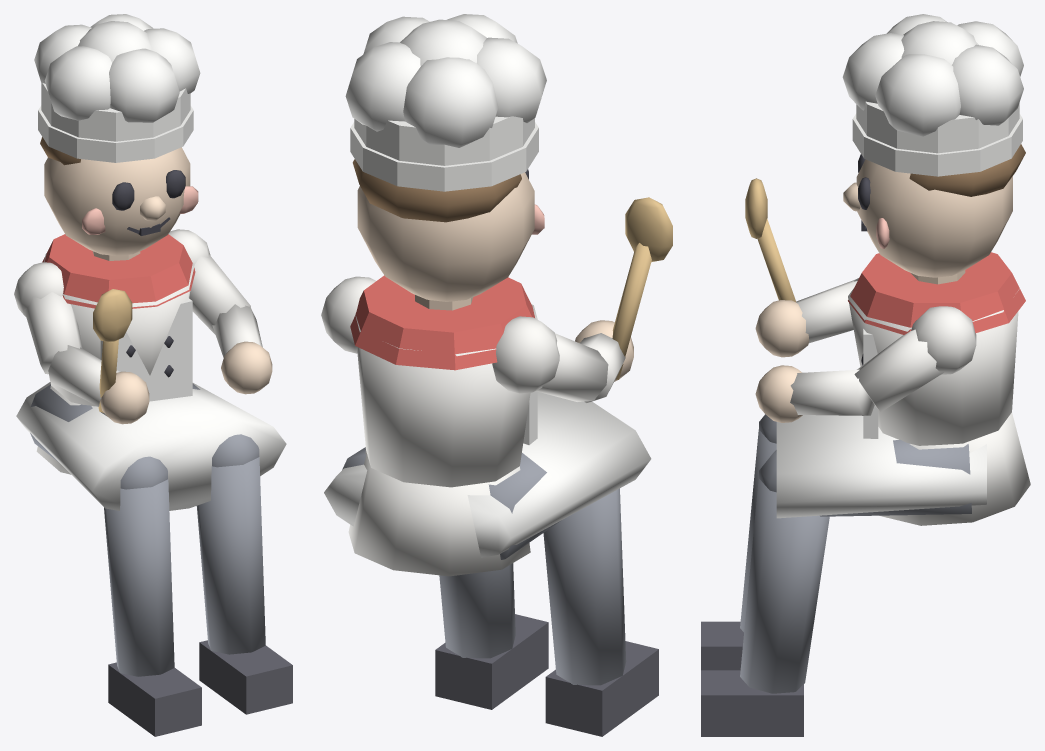
The model's file is meeple_05_koch.glb.
3 views of the same model, side by side, from view 1: azimuth 30°, elevation 25°; view 2: azimuth 150°, elevation 25°; view 3: azimuth 270°, elevation 25° (orthographic). The views are drawn at different scales.
Visible parts, largest first — view 1: meeple_05_koch; view 2: meeple_05_koch; view 3: meeple_05_koch.
Boxes of the visible parts, x1,y1,x2,y2 form: meeple_05_koch: (14, 14, 292, 736); meeple_05_koch: (321, 14, 672, 736); meeple_05_koch: (701, 14, 1030, 736).
Size of the model in its own units: 0.5303 by 1.48 by 0.658.
